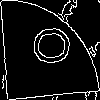O: (24, 25, 71, 67)
